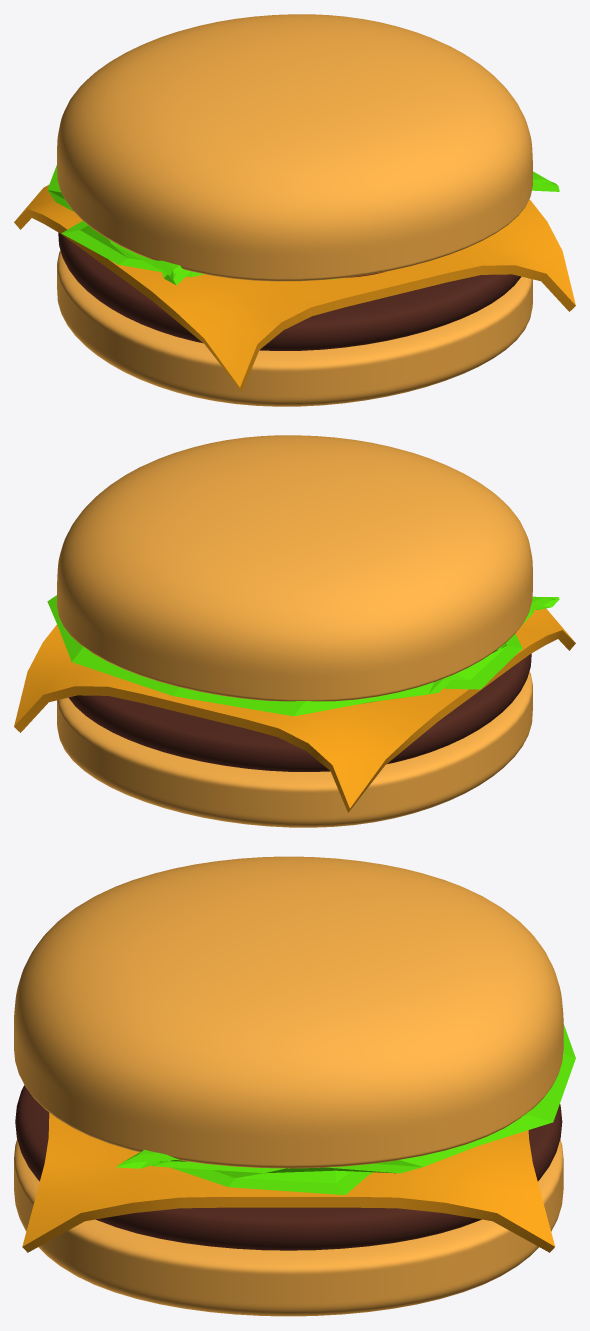
Rendered from burger.glb.
3 views of the same model, one above another, from view 1: azimuth 30°, elevation 25°; view 2: azimuth 150°, elevation 25°; view 3: azimuth 270°, elevation 25° (orthographic). The views are drawn at different scales.
Parts seen in each view (by area): view 1: Cube.002, Cube, Plane, Cube.001, Suzanne.001; view 2: Cube.002, Cube, Plane, Cube.001, Suzanne.001; view 3: Cube.002, Cube, Plane, Cube.001, Suzanne.001.
Boxes of the visible parts, x1,y1,x2,y2 form: Cube.002: [57, 14, 532, 281]; Cube: [57, 250, 532, 406]; Plane: [14, 185, 575, 391]; Cube.001: [58, 232, 520, 350]; Suzanne.001: [47, 165, 559, 285]; Cube.002: [57, 435, 532, 701]; Cube: [57, 671, 532, 827]; Plane: [14, 608, 575, 812]; Cube.001: [69, 653, 531, 771]; Suzanne.001: [47, 595, 559, 716]; Cube.002: [14, 856, 563, 1168]; Cube: [14, 1139, 563, 1316]; Plane: [22, 1112, 555, 1252]; Cube.001: [15, 1085, 562, 1250]; Suzanne.001: [116, 1024, 575, 1195].
Size of the model in its own units: 1.91 by 1.11 by 1.87.
